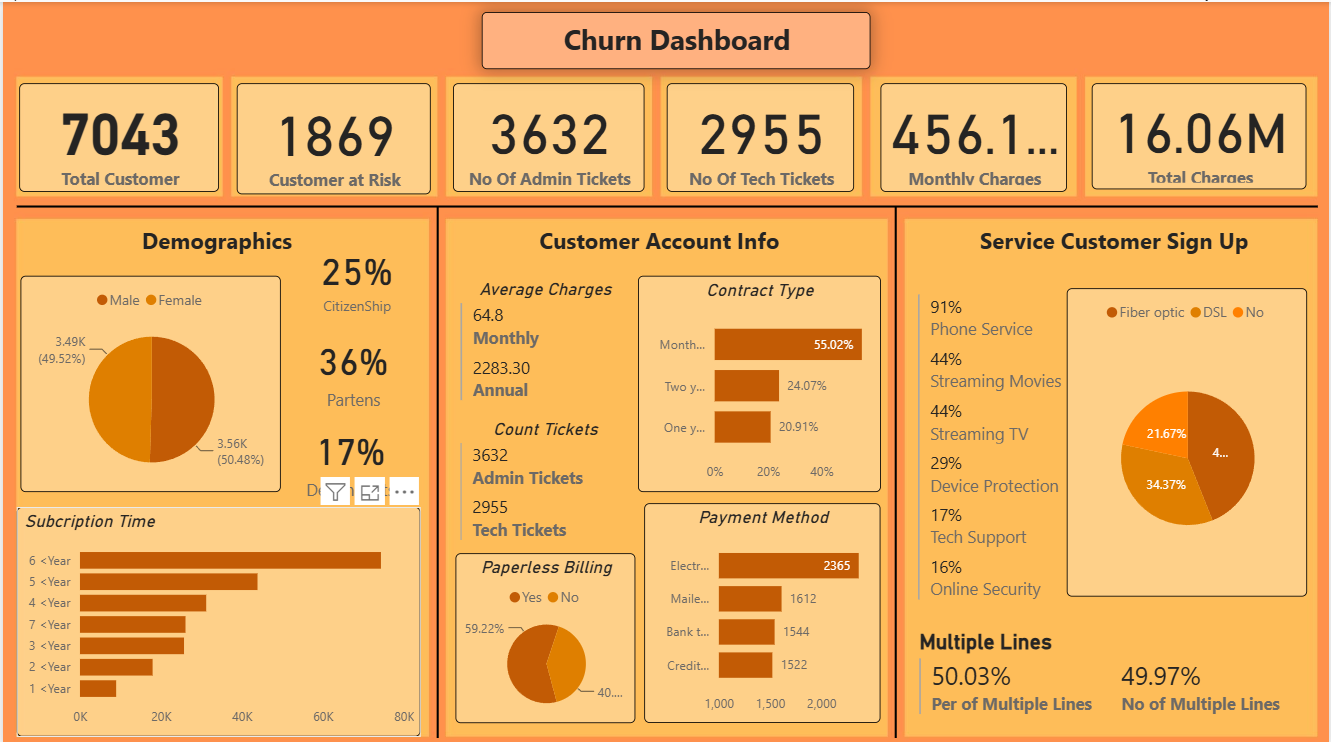

Layout of this report page (visuals, bound fields, positions):
{"tool":"powerbi","page":{"name":"Page 1","canvas":[1280,720],"ordinal":0},"visuals":[{"type":"card","fields":{"Values":["Count(01 Churn-Dataset.customerID)"]},"box":[15.7,78.4,193,105],"z":0},{"type":"card","fields":{"Values":["Sum(01 Churn-Dataset.numAdminTickets)"]},"box":[434.3,78.4,184.6,105],"z":1000},{"type":"card","fields":{"Values":["Sum(01 Churn-Dataset.MonthlyCharges)"]},"box":[846.9,78.4,179.8,105],"z":2000},{"type":"card","fields":{"Values":["Sum(01 Churn-Dataset.numTechTickets)"]},"box":[640.6,78.4,181,105],"z":3000},{"type":"card","fields":{"Values":["Sum(01 Churn-Dataset.TotalCharges)"]},"box":[1050.8,78.4,207.5,102.5],"z":4000},{"type":"card","fields":{"Values":["01 Churn-Dataset.Churnn"]},"box":[225.6,78.4,187,107.4],"z":5000},{"type":"pieChart","fields":{"Category":["01 Churn-Dataset.gender"],"Y":["CountNonNull(01 Churn-Dataset.gender)"]},"box":[16.9,264.2,251.2,208.8],"z":6000},{"type":"barChart","title":"Payment Method","fields":{"Category":["01 Churn-Dataset.PaymentMethod"],"Y":["CountNonNull(01 Churn-Dataset.PaymentMethod)"]},"box":[618.9,483.8,228,212.3],"z":7000},{"type":"card","fields":{"Values":["01 Churn-Dataset.Per of CitizenShip"]},"box":[273.9,220.8,136.2,90],"z":8000},{"type":"card","fields":{"Values":["01 Churn-Dataset.Per of Dependents"]},"box":[260.6,399.3,150,85],"z":9000},{"type":"card","fields":{"Values":["01 Churn-Dataset.Per of Partens"]},"box":[264.2,311.3,148.8,87.5],"z":10000},{"type":"pieChart","title":"Paperless Billing","fields":{"Y":["CountNonNull(01 Churn-Dataset.PaperlessBilling)"],"Category":["01 Churn-Dataset.PaperlessBilling"]},"box":[436.7,532,173.7,164.1],"z":11000},{"type":"barChart","title":"Contract Type","fields":{"Category":["01 Churn-Dataset.Contract"],"Y":["CountNonNull(01 Churn-Dataset.Contract)"]},"box":[612.9,264.2,234,208.7],"z":12000},{"type":"multiRowCard","title":"Average Charges","fields":{"Values":["Avg(01 Churn-Dataset.MonthlyCharges)","Avg(01 Churn-Dataset.TotalCharges)"]},"box":[436.2,266.2,173.8,135],"z":13000},{"type":"multiRowCard","fields":{"Values":["01 Churn-Dataset.% of Phone Service","01 Churn-Dataset.Streaming Movies","01 Churn-Dataset.Streaming TV","01 Churn-Dataset.Device Protection","01 Churn-Dataset.Tech Support","01 Churn-Dataset.Online Security"]},"box":[878,278,172,320],"z":14000},{"type":"pieChart","fields":{"Category":["01 Churn-Dataset.InternetService"],"Y":["CountNonNull(01 Churn-Dataset.InternetService)"]},"box":[1026.7,276.3,231.6,298],"z":15000},{"type":"shape","box":[12.9,181.4,1255.7,32.9],"z":16000},{"type":"shape","box":[855,197.5,12.5,512.5],"z":17000},{"type":"shape","box":[393.8,197.5,52.5,512.5],"z":18000},{"type":"textbox","box":[128.8,210,162.5,67.5],"z":19000},{"type":"multiRowCard","title":"Count Tickets","fields":{"Values":["Sum(01 Churn-Dataset.numAdminTickets)","Sum(01 Churn-Dataset.numTechTickets)"]},"box":[436.2,401.2,173.8,122.5],"z":20000},{"type":"barChart","title":"Subcription Time","fields":{"Category":["01 Churn-Dataset.Tenure Years"],"Y":["Sum(01 Churn-Dataset.tenure)"]},"box":[13.3,487.4,389.7,222],"z":21000},{"type":"textbox","box":[512.5,210,300,56.2],"z":22000},{"type":"textbox","box":[902.5,210,340,45],"z":23000},{"type":"textbox","box":[462.1,9.7,375.2,55.5],"z":24000},{"type":"multiRowCard","title":"Multiple Lines","fields":{"Values":["01 Churn-Dataset.Per of Multiple Lines","01 Churn-Dataset.No of Multiple Lines"]},"box":[880,606,388,104],"z":26000}]}

Visuals, with their boxes in screenshot pixels (x1, y1, x2, y2), scaled from the page's 1280x720 canvas onto the 1331x742 screenshot:
card - Count(01 Churn-Dataset.customerID): detection(16, 81, 217, 189)
card - Sum(01 Churn-Dataset.numAdminTickets): detection(452, 81, 644, 189)
card - Sum(01 Churn-Dataset.MonthlyCharges): detection(881, 81, 1068, 189)
card - Sum(01 Churn-Dataset.numTechTickets): detection(666, 81, 854, 189)
card - Sum(01 Churn-Dataset.TotalCharges): detection(1093, 81, 1308, 186)
card - 01 Churn-Dataset.Churnn: detection(235, 81, 429, 191)
pieChart - 01 Churn-Dataset.gender x CountNonNull(01 Churn-Dataset.gender): detection(18, 272, 279, 487)
"Payment Method" barChart: detection(644, 499, 881, 717)
card - 01 Churn-Dataset.Per of CitizenShip: detection(285, 228, 426, 320)
card - 01 Churn-Dataset.Per of Dependents: detection(271, 412, 427, 499)
card - 01 Churn-Dataset.Per of Partens: detection(275, 321, 429, 411)
"Paperless Billing" pieChart: detection(454, 548, 635, 717)
"Contract Type" barChart: detection(637, 272, 881, 487)
"Average Charges" multiRowCard: detection(454, 274, 634, 413)
multiRowCard - 01 Churn-Dataset.% of Phone Service x 01 Churn-Dataset.Streaming Movies: detection(913, 286, 1092, 616)
pieChart - 01 Churn-Dataset.InternetService x CountNonNull(01 Churn-Dataset.InternetService): detection(1068, 285, 1308, 592)
shape: detection(13, 187, 1319, 221)
shape: detection(889, 204, 902, 732)
shape: detection(409, 204, 464, 732)
textbox: detection(134, 216, 303, 286)
"Count Tickets" multiRowCard: detection(454, 413, 634, 540)
"Subcription Time" barChart: detection(14, 502, 419, 731)
textbox: detection(533, 216, 845, 274)
textbox: detection(938, 216, 1292, 263)
textbox: detection(481, 10, 871, 67)
"Multiple Lines" multiRowCard: detection(915, 625, 1319, 732)
